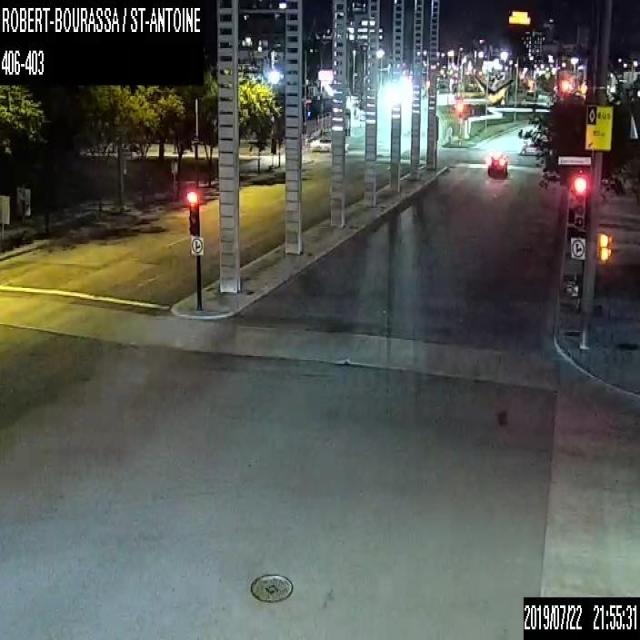vehicle: (486, 152, 508, 178), (312, 137, 348, 152), (518, 140, 541, 154)
